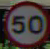Speed limit: (3, 2, 45, 42)
